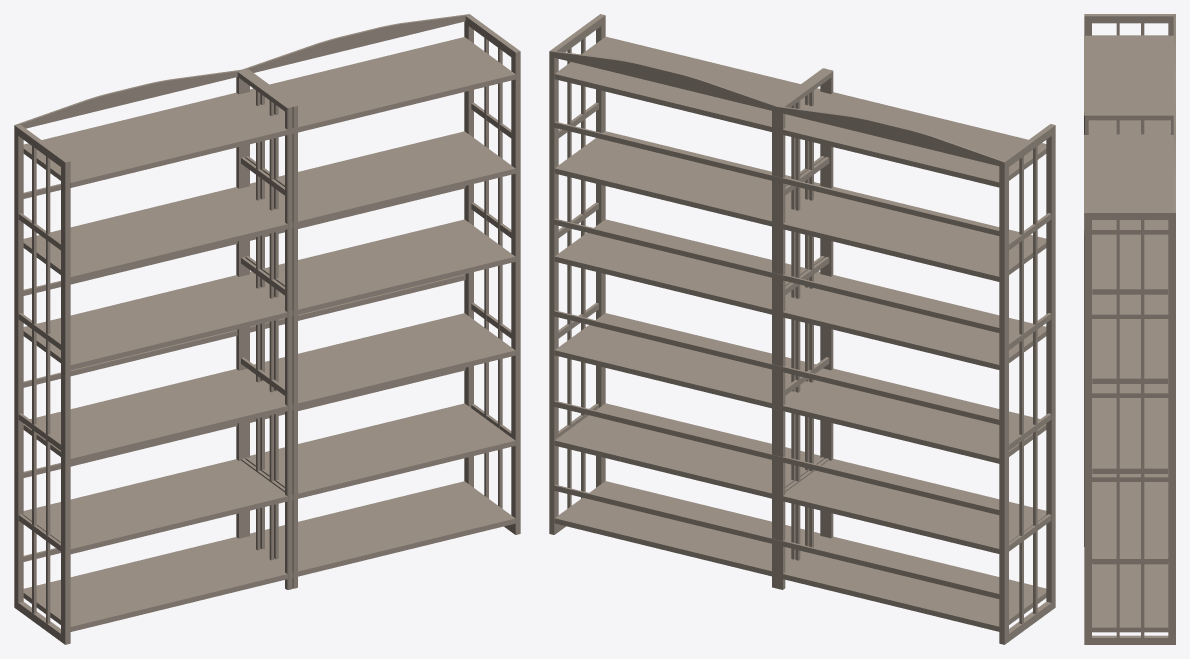
The model's file is 展厅书架.fbx.
3 views of the same model, side by side, from view 1: azimuth 30°, elevation 25°; view 2: azimuth 150°, elevation 25°; view 3: azimuth 270°, elevation 25° (orthographic). The views are drawn at different scales.
Visible parts, largest first — view 1: polySurface973; view 2: polySurface973; view 3: polySurface973.
Part boxes in pixels (x1,y1,x2,y2): polySurface973: (14, 14, 520, 644); polySurface973: (549, 14, 1055, 644); polySurface973: (1084, 14, 1175, 644).
Size of the model in its own units: 18 by 18.56 by 3.51.
